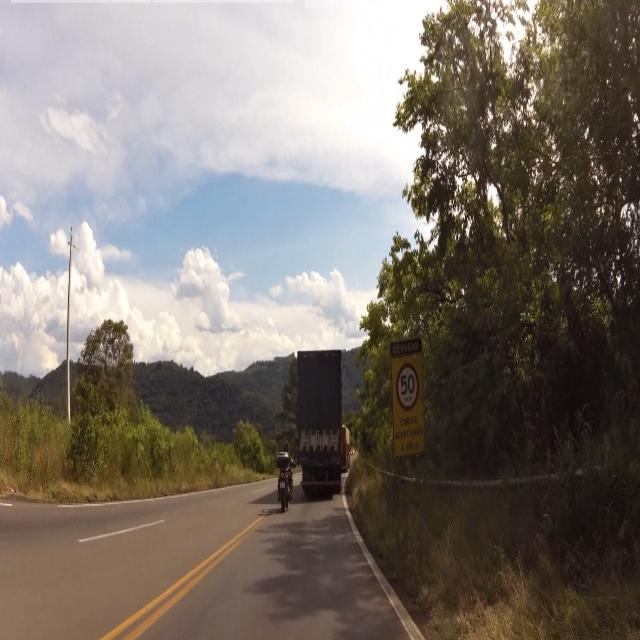R-19: (395, 355, 421, 413)
